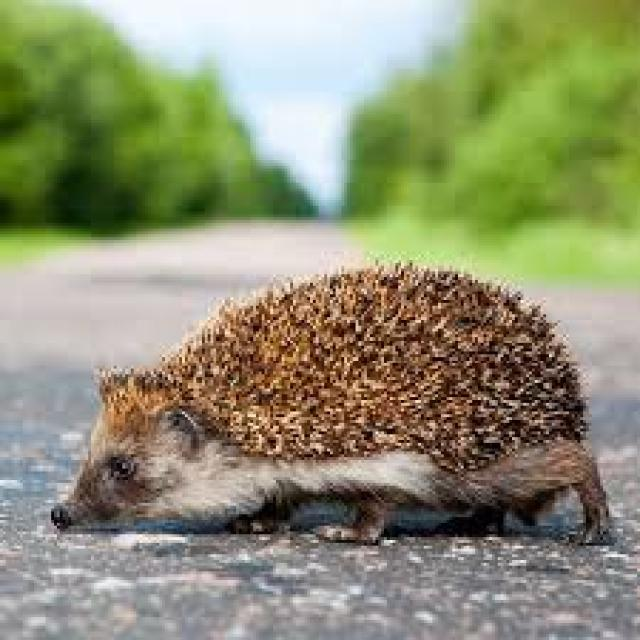Hedgehog: (48, 254, 614, 546)
